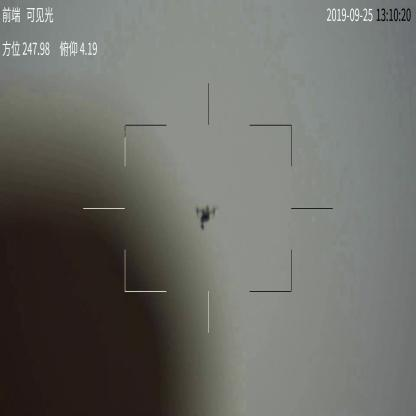uav: (193, 201, 220, 232)
